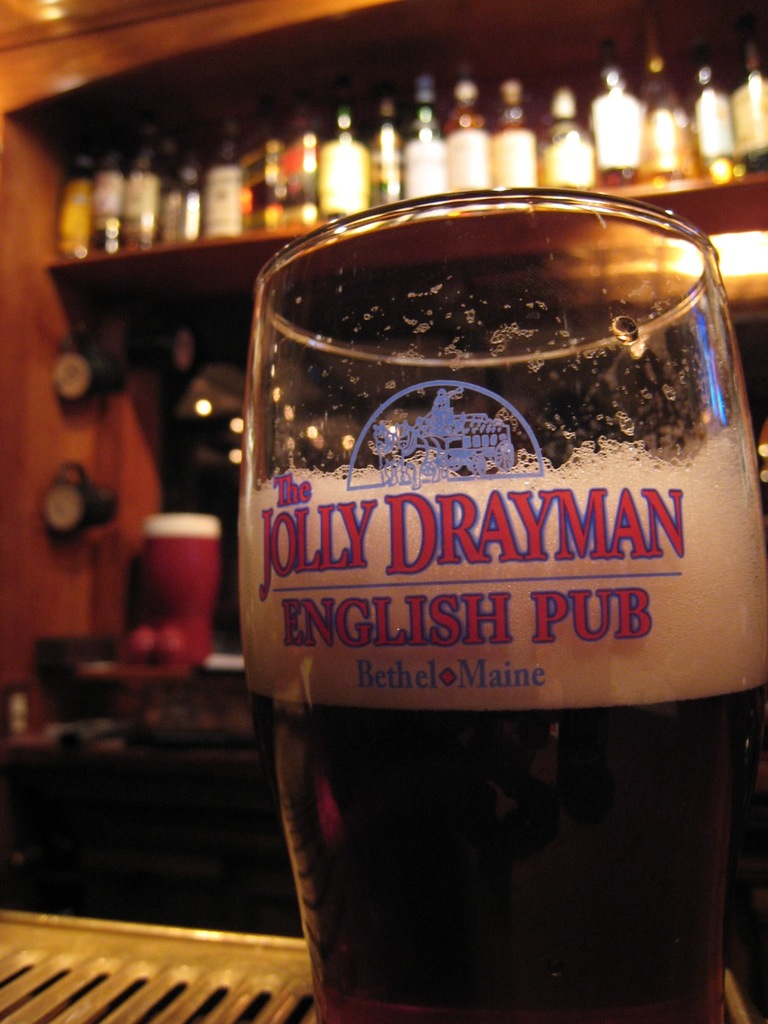Beer: (246, 476, 767, 1023)
